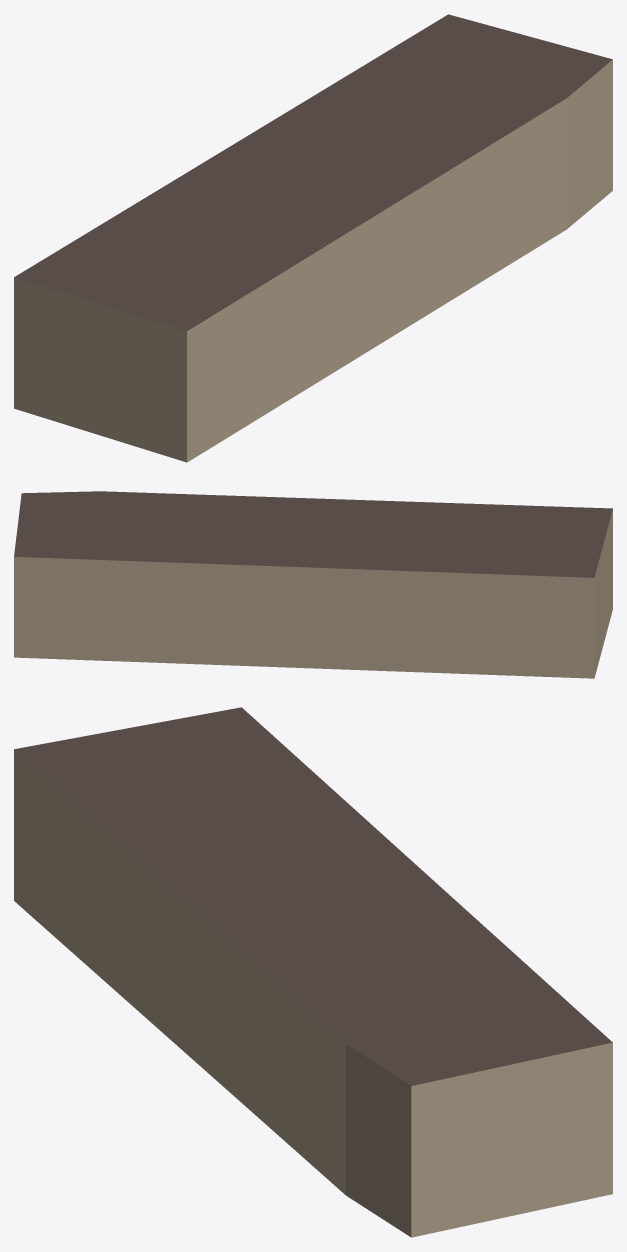
3 views of the same model, one above another, from view 1: azimuth 30°, elevation 25°; view 2: azimuth 150°, elevation 25°; view 3: azimuth 270°, elevation 25° (orthographic). The views are drawn at different scales.
Parts seen in each view (by area): view 1: HP-w1515076963; view 2: HP-w1515076963; view 3: HP-w1515076963.
Boxes of the visible parts, bbox=[...] form: HP-w1515076963: bbox=[14, 14, 612, 462]; HP-w1515076963: bbox=[14, 491, 612, 678]; HP-w1515076963: bbox=[14, 707, 612, 1237].
Size of the model in its own units: 48.23 by 9 by 32.23.
